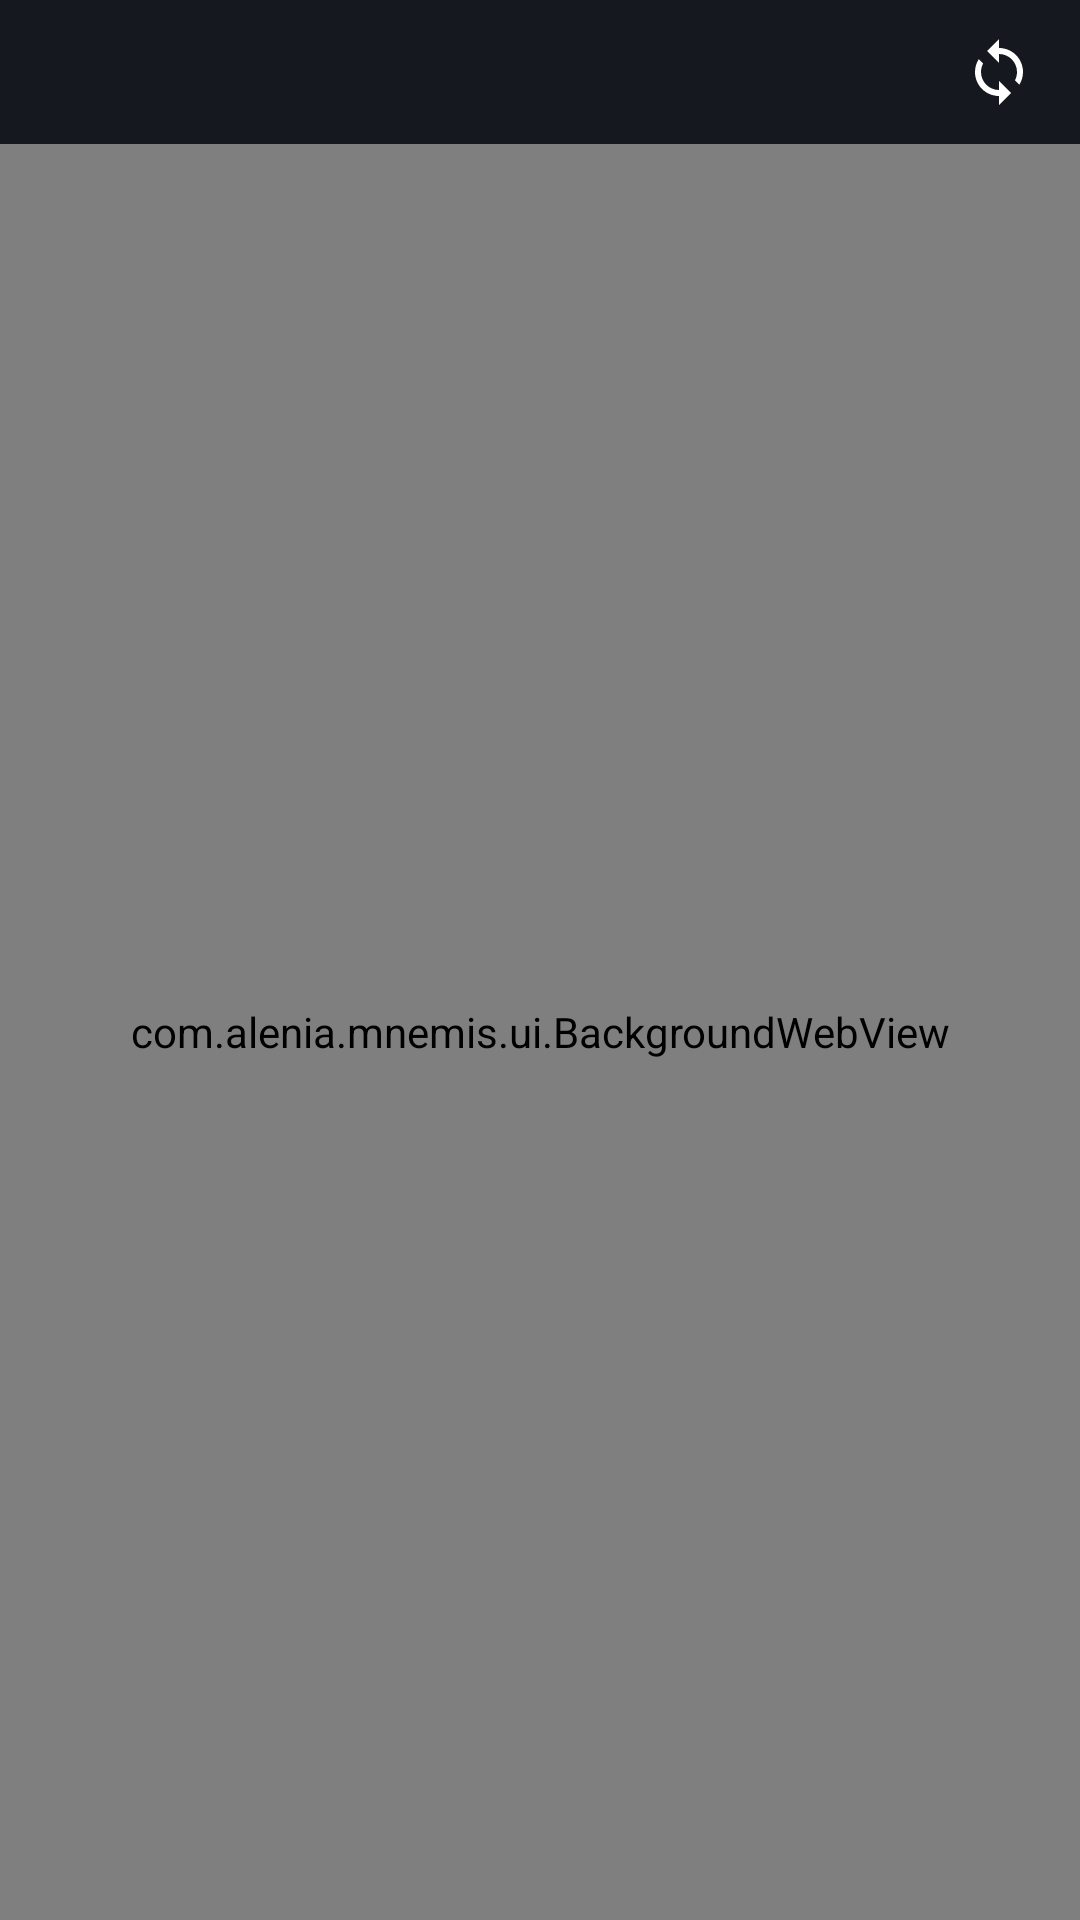

Where to tap for icons on this 1080w x 1920h app screen, as point (x, y):
sync: point (999, 72)
